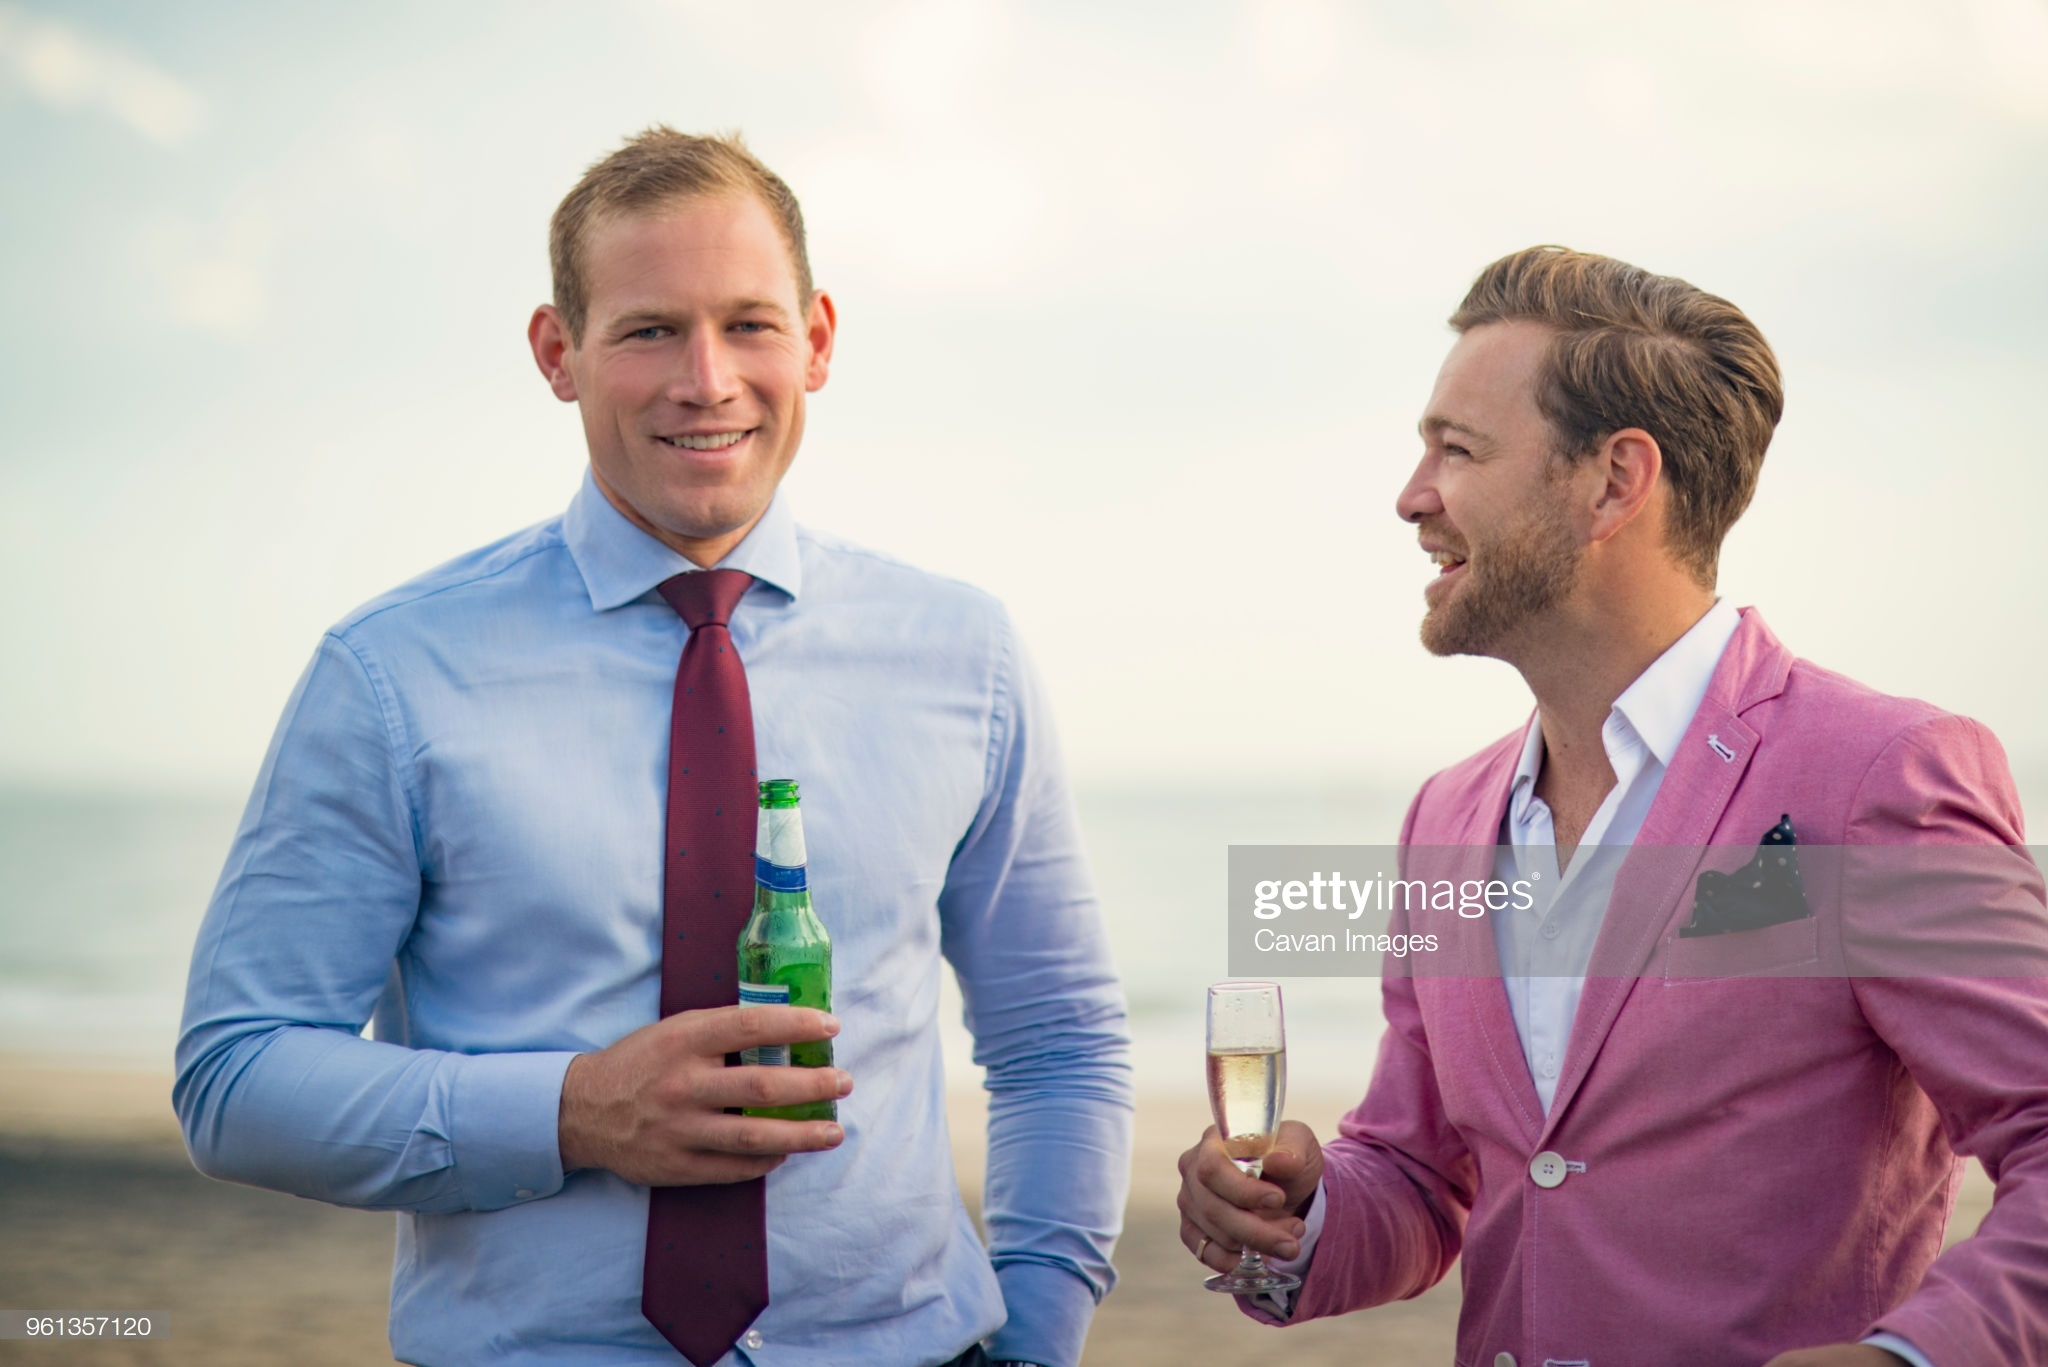beerBottle: (747, 770, 840, 1127)
